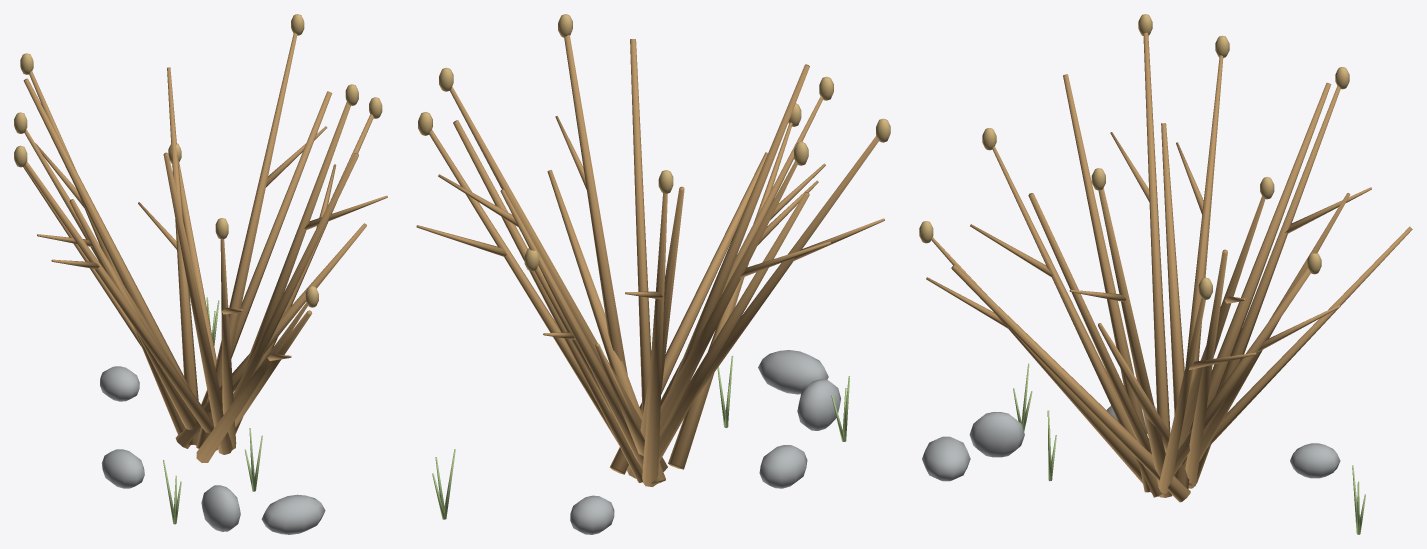
The model's file is dry_bush_b.glb.
3 views of the same model, side by side, from view 1: azimuth 30°, elevation 25°; view 2: azimuth 150°, elevation 25°; view 3: azimuth 270°, elevation 25° (orthographic). The views are drawn at different scales.
Parts seen in each view (by area): view 1: dry_bush_b_stem_2, dry_bush_b_stem_10, dry_bush_b_stem_11, dry_bush_b_stem_7, dry_bush_b_stem_3, dry_bush_b_stem_1, dry_bush_b_stem_15, dry_bush_b_stem_16, dry_bush_ground_rock_0, dry_bush_b_stem_14, dry_bush_b_stem_17, dry_bush_b_stem_9 (+10 smaller); view 2: dry_bush_b_stem_16, dry_bush_b_stem_15, dry_bush_b_stem_6, dry_bush_b_stem_8, dry_bush_b_stem_9, dry_bush_b_stem_11, dry_bush_b_stem_1, dry_bush_b_stem_13, dry_bush_b_stem_3, dry_bush_b_stem_2, dry_bush_b_stem_0, dry_bush_b_stem_17 (+12 smaller); view 3: dry_bush_b_stem_10, dry_bush_b_stem_7, dry_bush_b_stem_13, dry_bush_b_stem_11, dry_bush_b_stem_12, dry_bush_b_stem_6, dry_bush_b_stem_16, dry_bush_b_stem_9, dry_bush_b_stem_8, dry_bush_b_stem_15, dry_bush_b_stem_1, dry_bush_b_stem_5 (+9 smaller).
Boxes of the visible parts, x1,y1,x2,y2 form: dry_bush_b_stem_2: (196, 32, 297, 448); dry_bush_b_stem_10: (25, 161, 214, 433); dry_bush_b_stem_11: (163, 152, 232, 454); dry_bush_b_stem_7: (23, 78, 198, 436); dry_bush_b_stem_3: (167, 67, 198, 444); dry_bush_b_stem_1: (201, 91, 332, 406); dry_bush_b_stem_15: (216, 153, 358, 450); dry_bush_b_stem_16: (245, 102, 350, 371); dry_bush_ground_rock_0: (261, 494, 325, 534); dry_bush_b_stem_14: (196, 302, 307, 462); dry_bush_b_stem_17: (175, 223, 366, 448); dry_bush_b_stem_9: (69, 199, 196, 445); dry_bush_b_stem_16: (564, 35, 627, 374); dry_bush_b_stem_15: (630, 39, 651, 414); dry_bush_b_stem_6: (642, 193, 667, 486); dry_bush_b_stem_8: (626, 161, 797, 478); dry_bush_b_stem_9: (634, 192, 809, 475); dry_bush_b_stem_11: (669, 64, 809, 390); dry_bush_b_stem_1: (453, 120, 642, 482); dry_bush_b_stem_13: (610, 152, 767, 474); dry_bush_b_stem_3: (500, 189, 643, 468); dry_bush_b_stem_2: (450, 86, 667, 471); dry_bush_b_stem_0: (429, 130, 618, 444); dry_bush_b_stem_17: (547, 170, 665, 483); dry_bush_b_stem_10: (1143, 32, 1170, 432); dry_bush_b_stem_7: (1174, 83, 1331, 475); dry_bush_b_stem_13: (951, 264, 1190, 502); dry_bush_b_stem_11: (1063, 74, 1149, 492); dry_bush_b_stem_12: (992, 146, 1163, 497); dry_bush_b_stem_6: (1196, 85, 1340, 483); dry_bush_b_stem_16: (1098, 188, 1172, 497); dry_bush_b_stem_9: (1161, 123, 1191, 485); dry_bush_b_stem_8: (1175, 55, 1223, 488); dry_bush_b_stem_15: (1028, 193, 1151, 453); dry_bush_b_stem_1: (1185, 249, 1227, 488); dry_bush_b_stem_5: (1207, 226, 1412, 448).
Bounding box in the file's own units: 0.9498 × 0.8489 × 0.9878.
